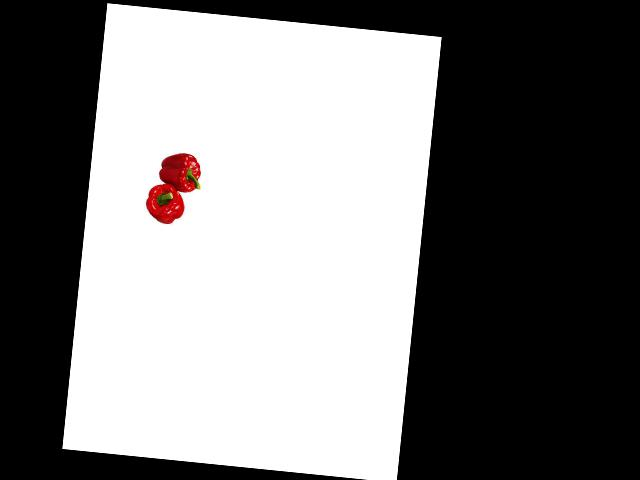bell_pepper: (154, 149, 205, 195)
